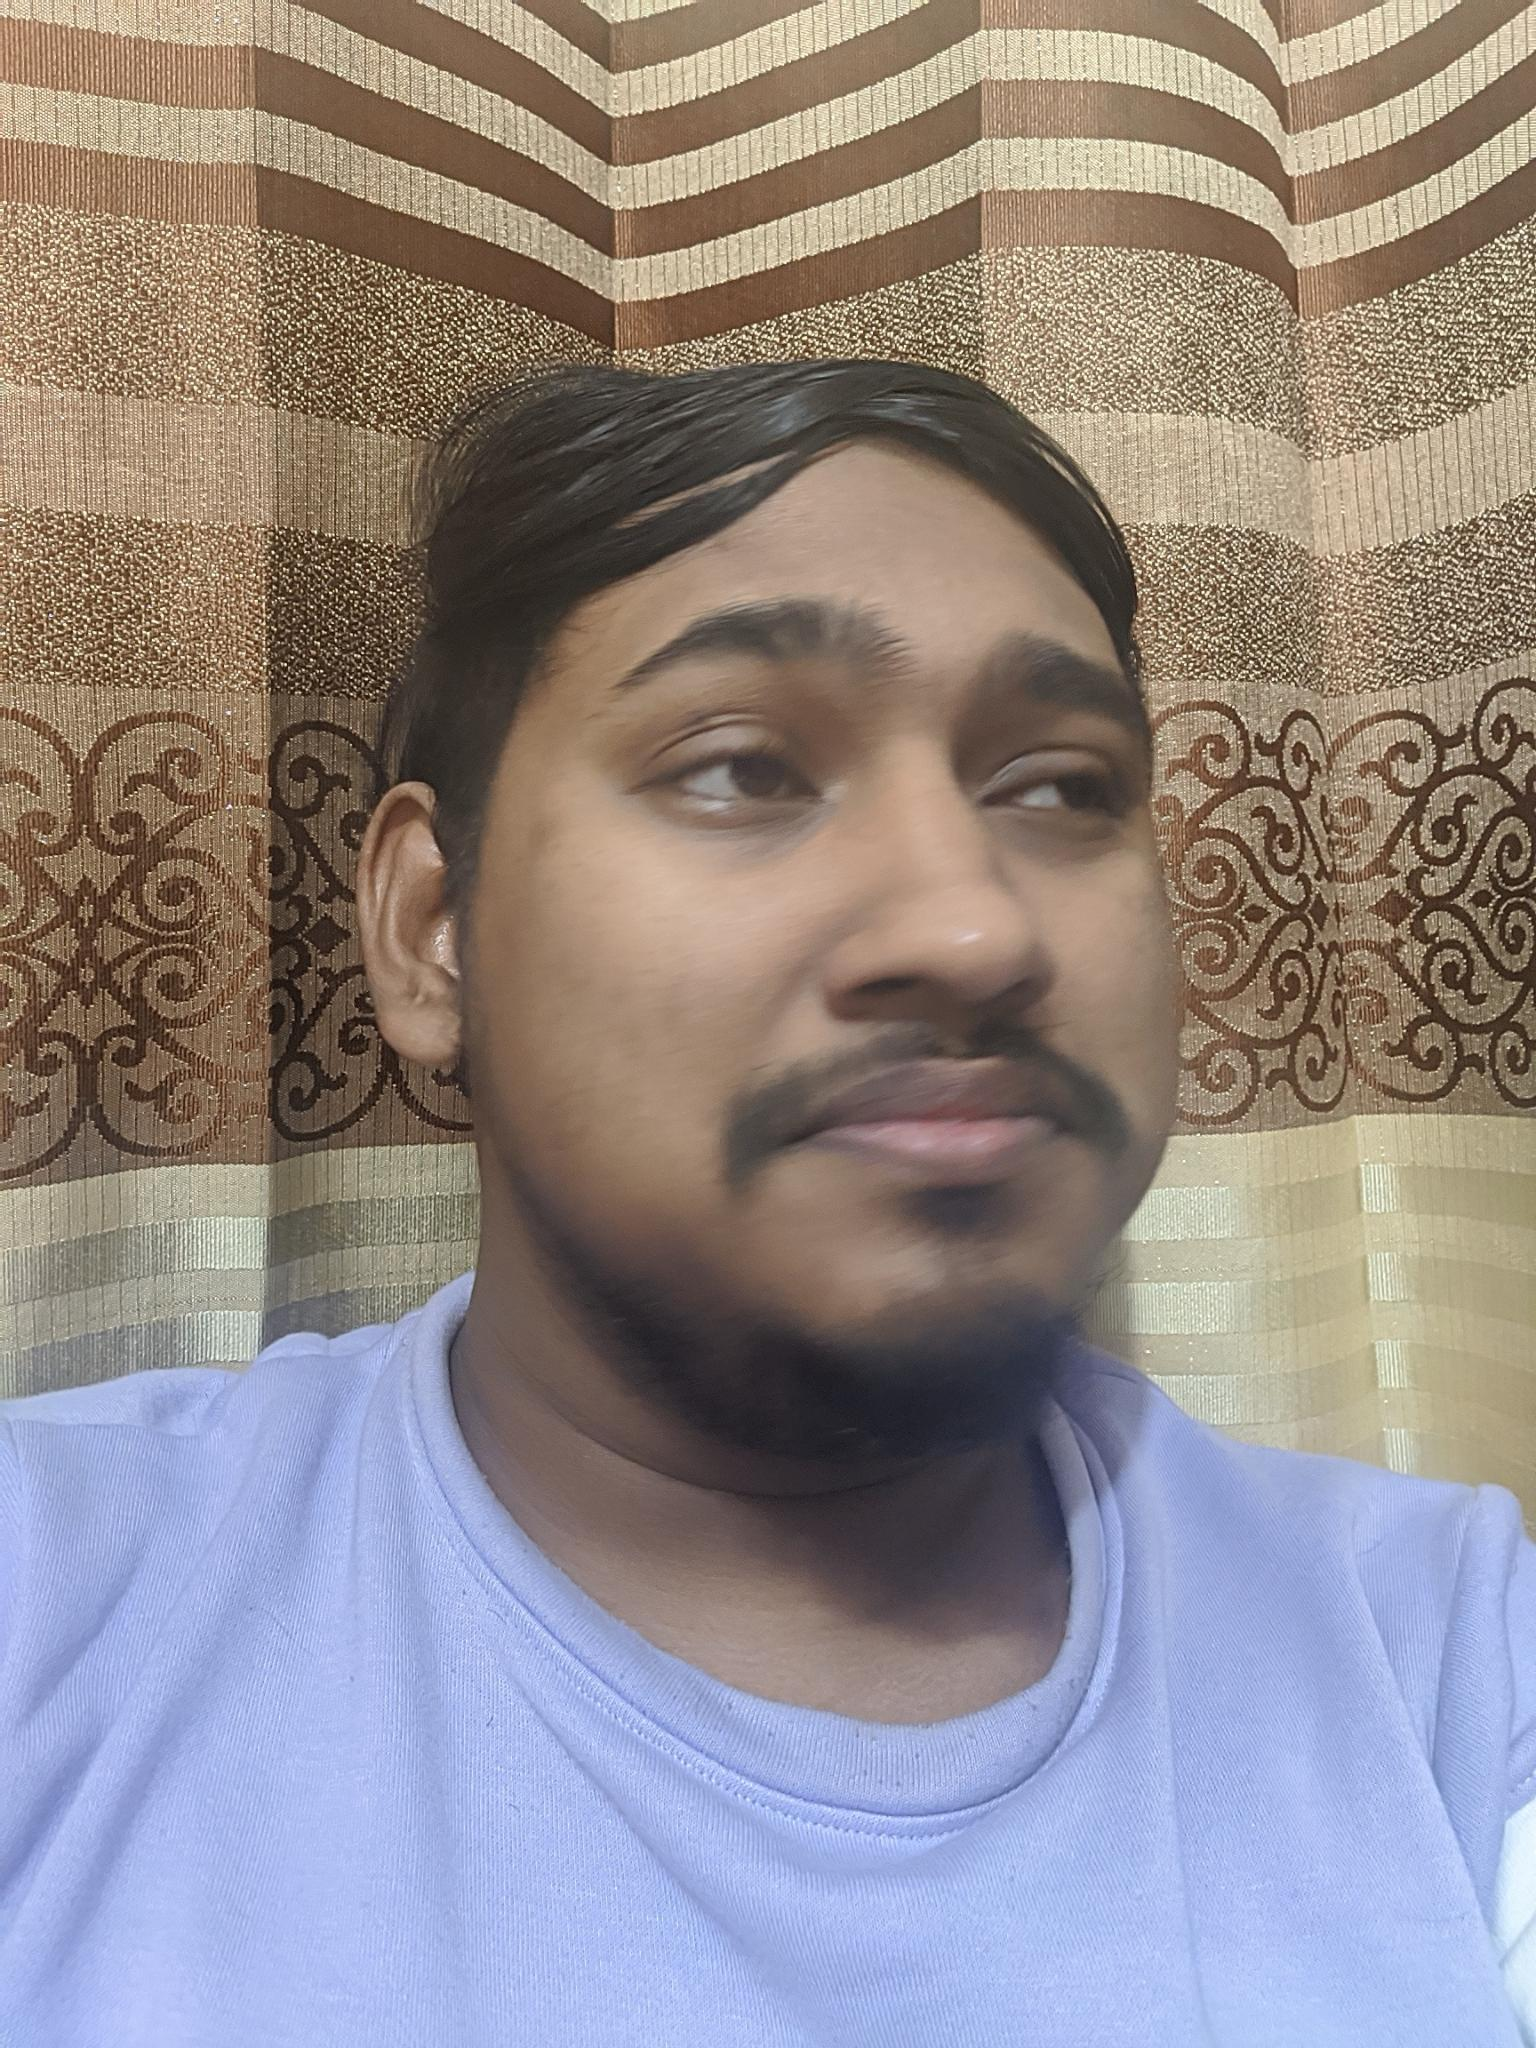Sad: (502, 543, 1223, 1397)
